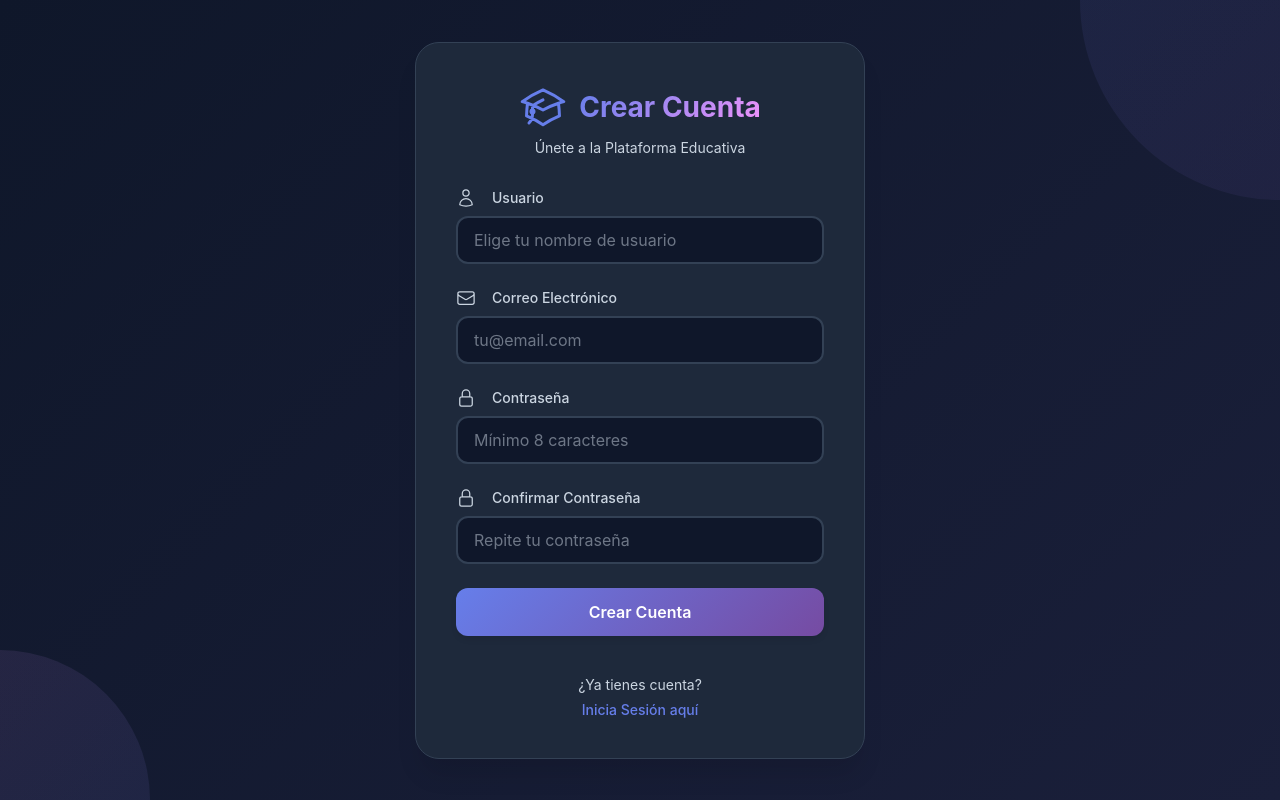
Test: Register Component › Validación de campos › debe mostrar error si las contraseñas no coinciden
The image size is (1280, 800).
In the field labelled "Usuario": x=640, y=240 [456,216,824,264], type "testuser"
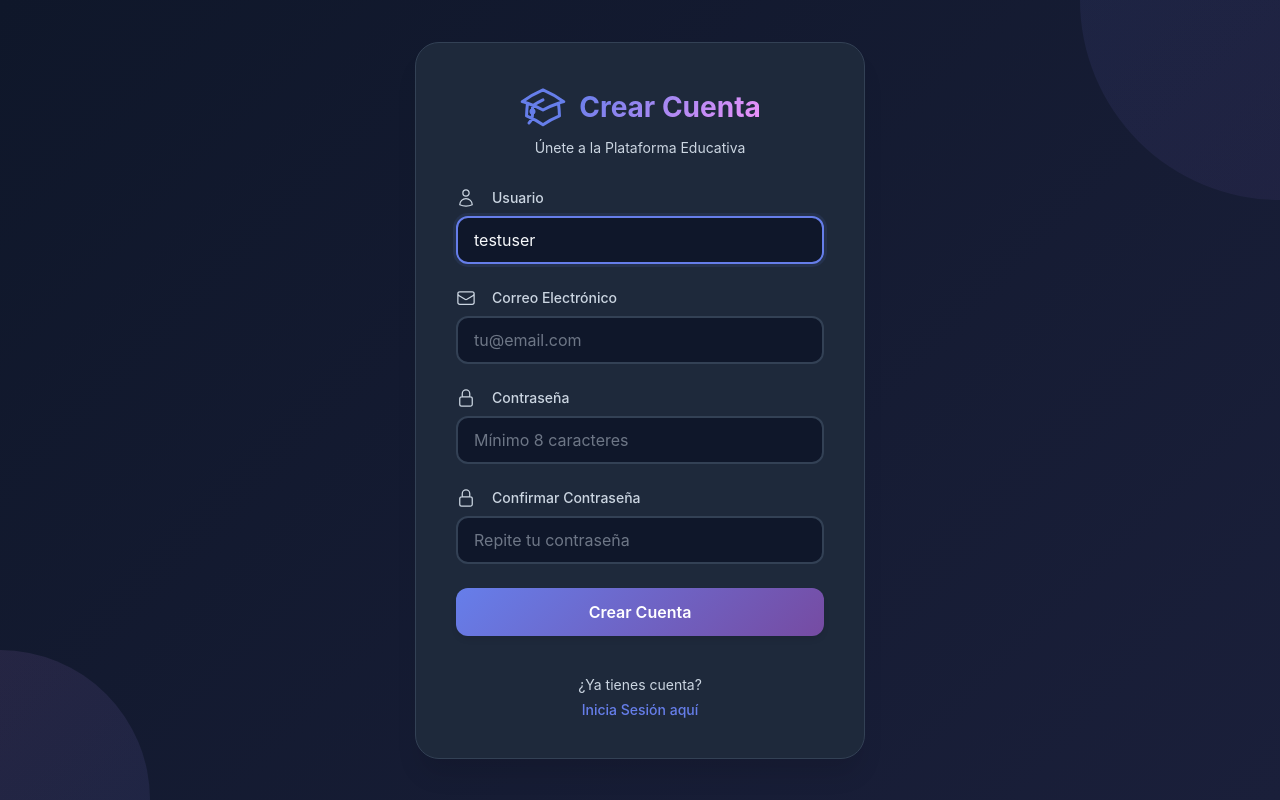
In the field labelled "Correo Electrónico": x=640, y=340 [456,316,824,364], type "test@example.com"
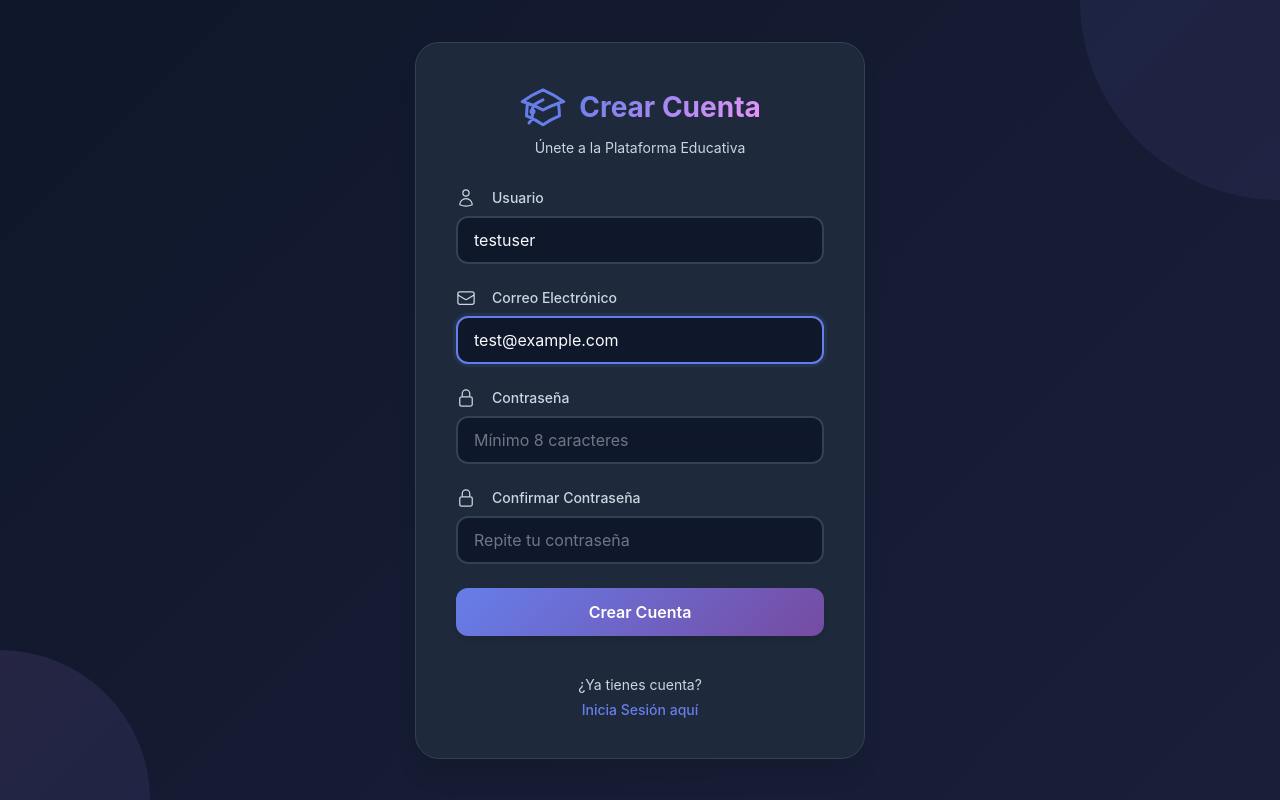
In the password field labelled "Contraseña": x=640, y=440 [456,416,824,464], type "password123"
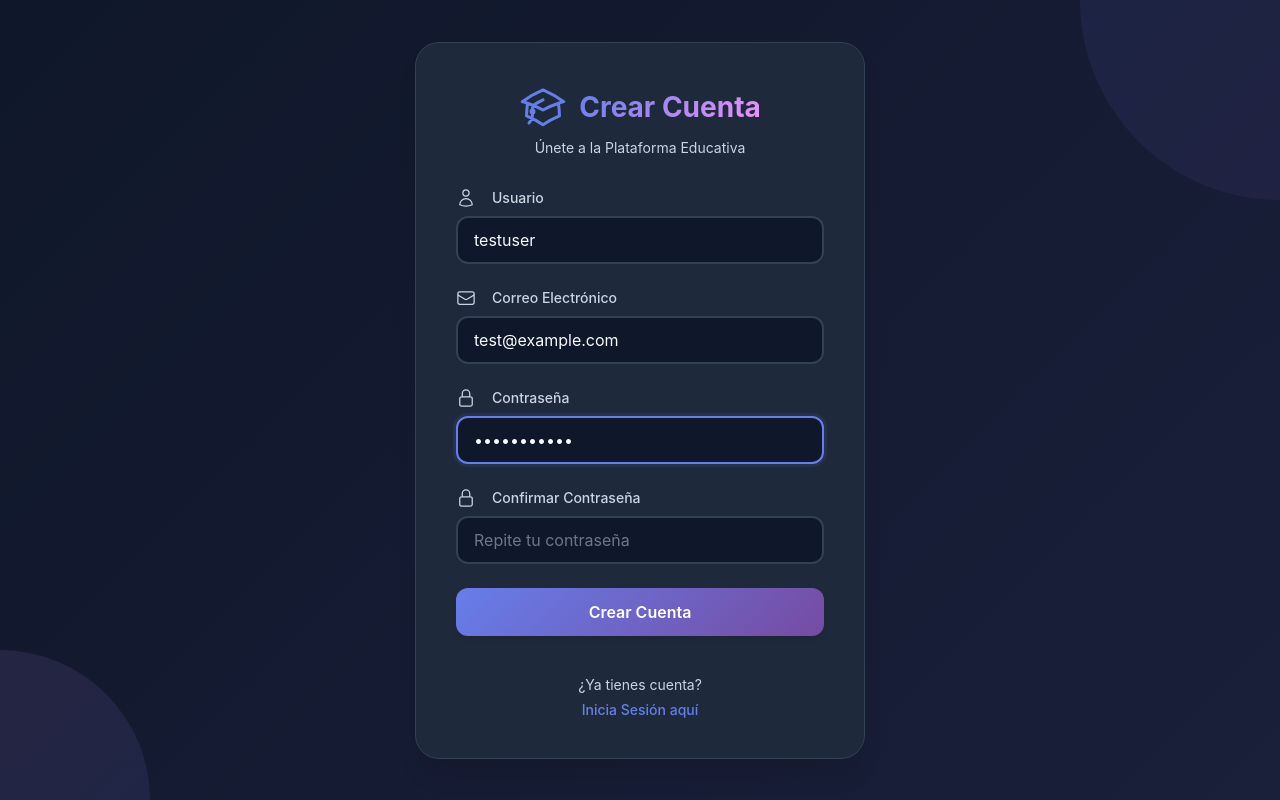
In the password field labelled "Confirmar Contraseña": x=640, y=540 [456,516,824,564], type "differentpassword"
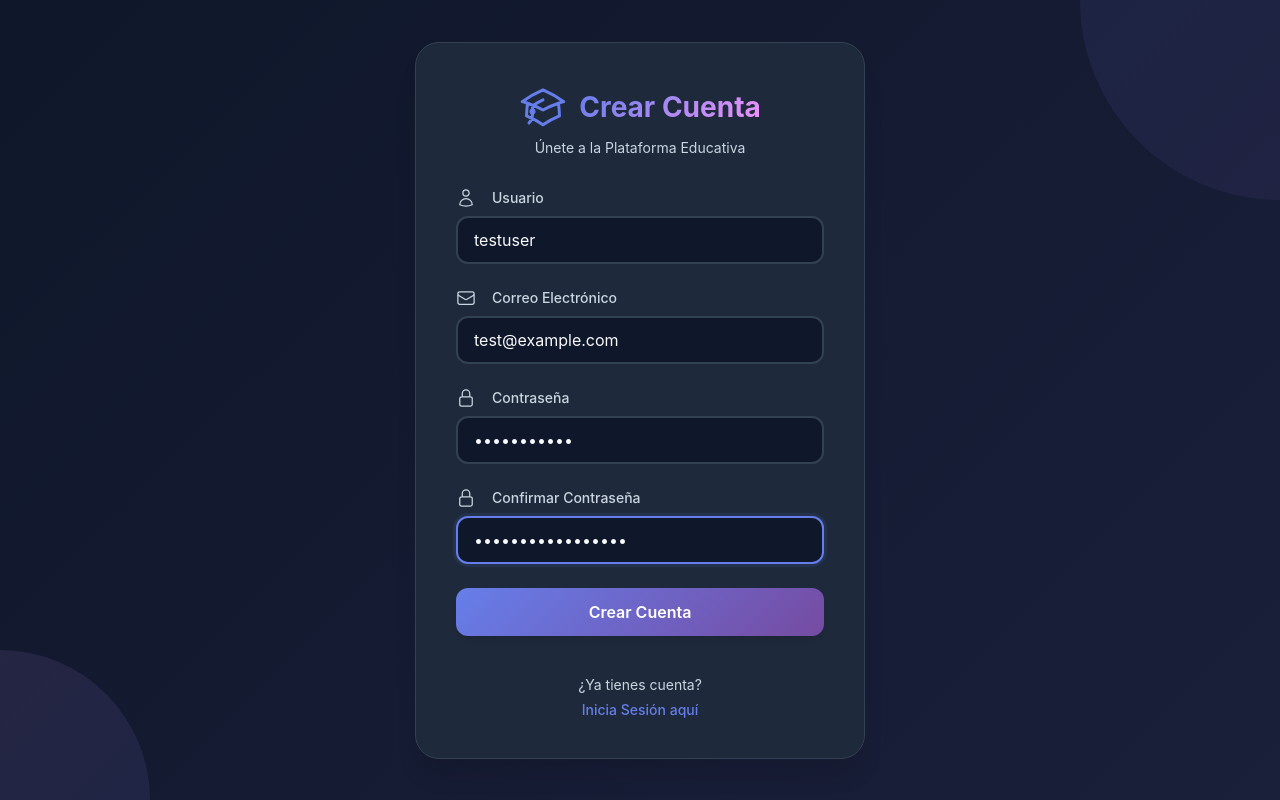
Click the button "Crear Cuenta": x=640, y=612 [456,588,824,636]
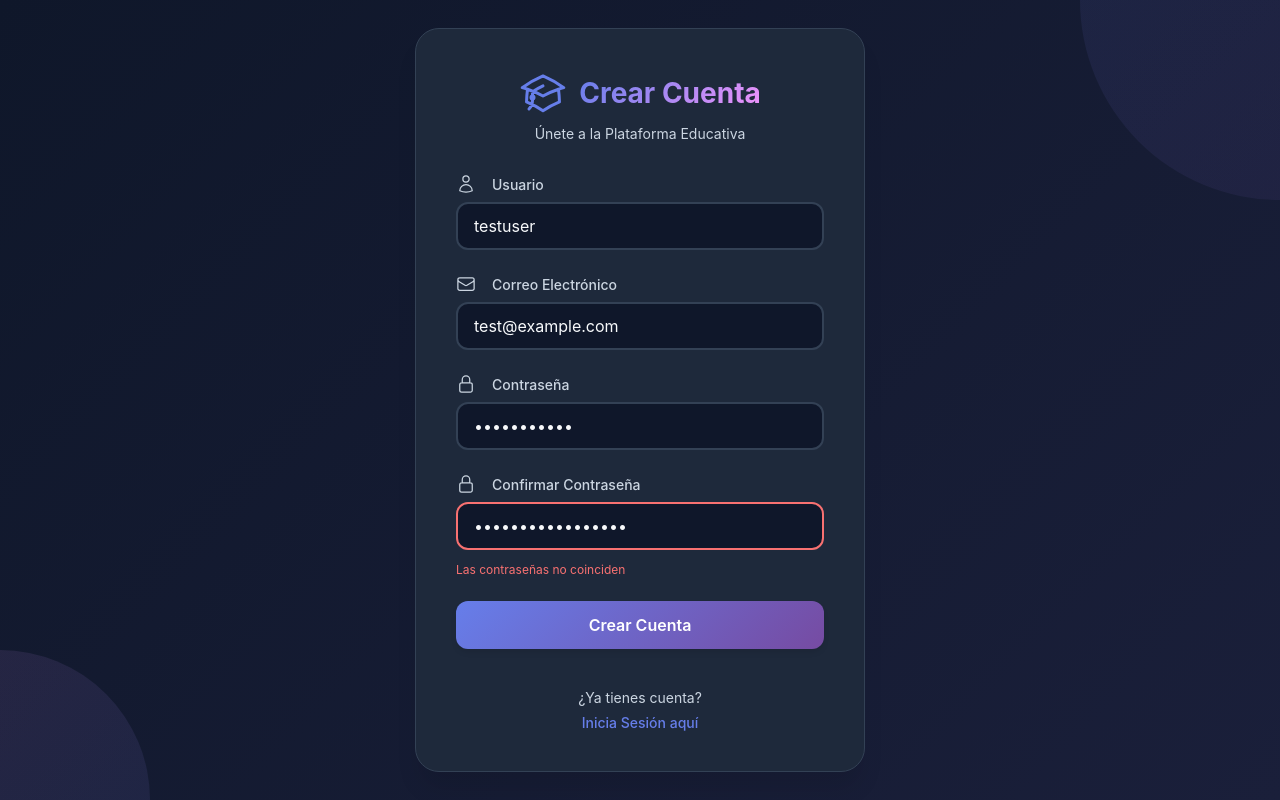
Expected: the text "Las contraseñas no coinciden" is shown, [456,562,625,577]
